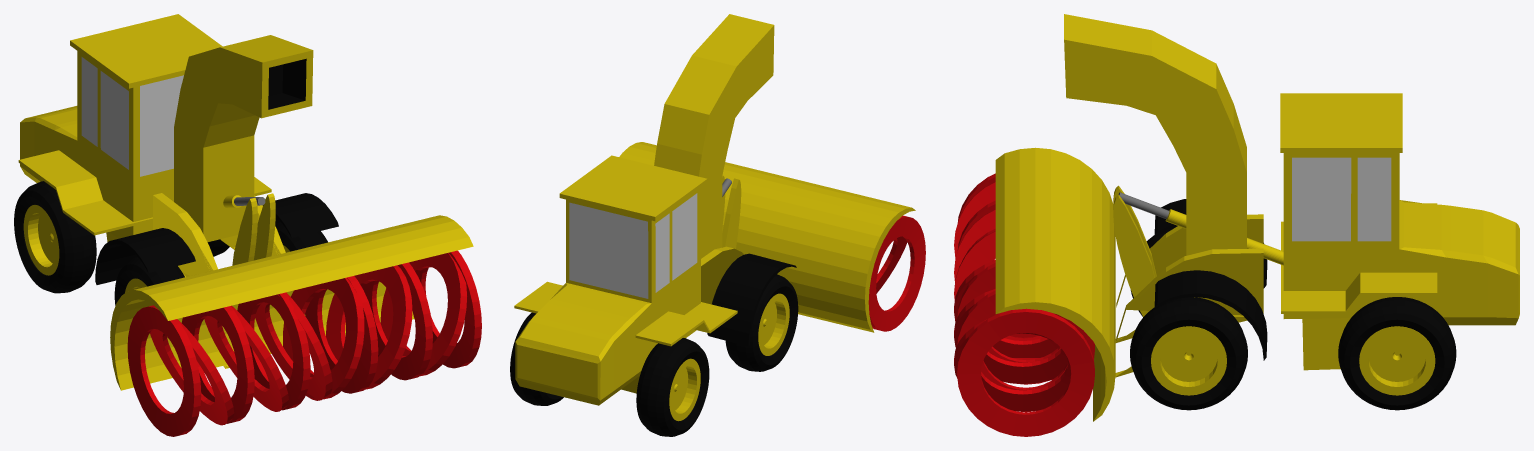
The model's file is eaterBodyCmp.fbx.
3 renders of one model, left to right at view 1: azimuth 30°, elevation 25°; view 2: azimuth 150°, elevation 25°; view 3: azimuth 270°, elevation 25°, orthographic. The views are drawn at different scales.
Parts seen in each view (by area): view 1: Cube; view 2: Cube; view 3: Cube.
Part boxes in pixels (bbox=[...]): Cube: bbox=[14, 14, 481, 436]; Cube: bbox=[510, 14, 925, 436]; Cube: bbox=[954, 14, 1519, 436].
Size of the model in its own units: 957 by 995 by 1483.
